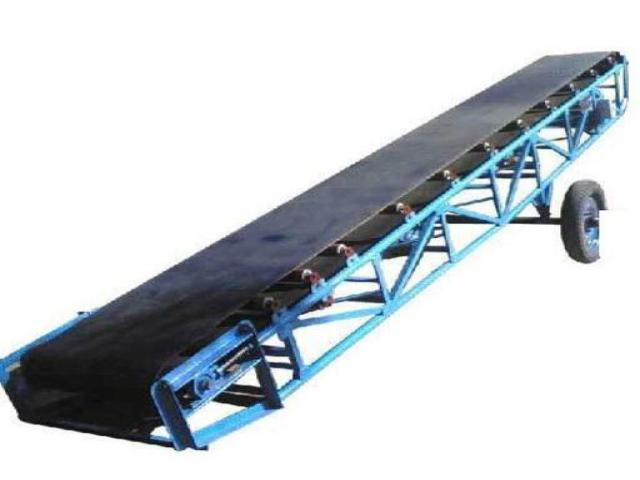conveyor: (0, 46, 634, 454)
